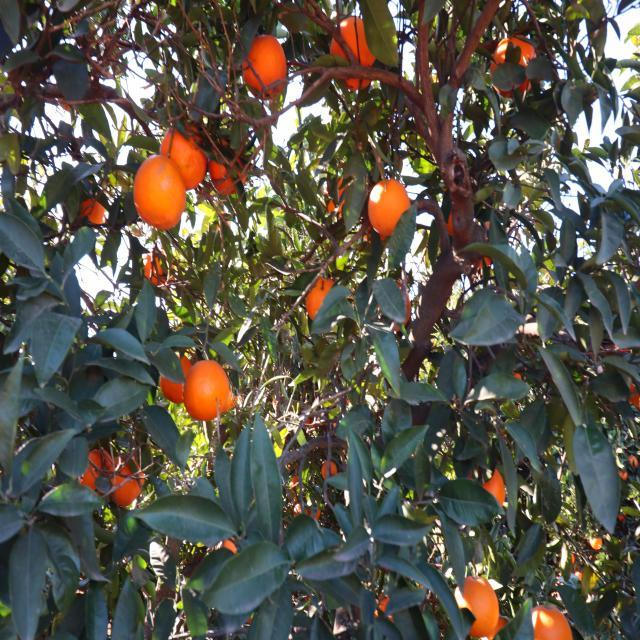Jeruk Sudah Matang: (131, 154, 187, 234), (159, 117, 214, 192), (330, 16, 382, 92), (492, 33, 542, 102), (240, 34, 290, 102), (186, 358, 236, 424), (452, 575, 502, 640), (370, 176, 412, 241), (512, 599, 577, 640), (212, 128, 249, 198), (62, 174, 105, 233), (324, 167, 364, 230), (73, 444, 114, 498), (112, 452, 148, 509), (304, 274, 342, 328), (56, 72, 100, 116), (160, 348, 193, 406), (478, 464, 508, 526), (476, 220, 504, 274), (440, 196, 470, 243), (140, 252, 174, 292), (372, 590, 403, 624), (305, 409, 328, 439), (321, 458, 343, 488), (588, 526, 606, 556), (284, 448, 302, 475), (626, 380, 640, 414), (306, 498, 324, 524), (614, 334, 632, 358), (289, 502, 308, 522), (286, 478, 304, 498), (499, 421, 514, 442), (562, 548, 577, 566), (572, 567, 586, 586), (616, 463, 630, 482), (513, 368, 525, 389), (614, 506, 628, 522), (342, 392, 355, 409), (628, 450, 638, 470)
